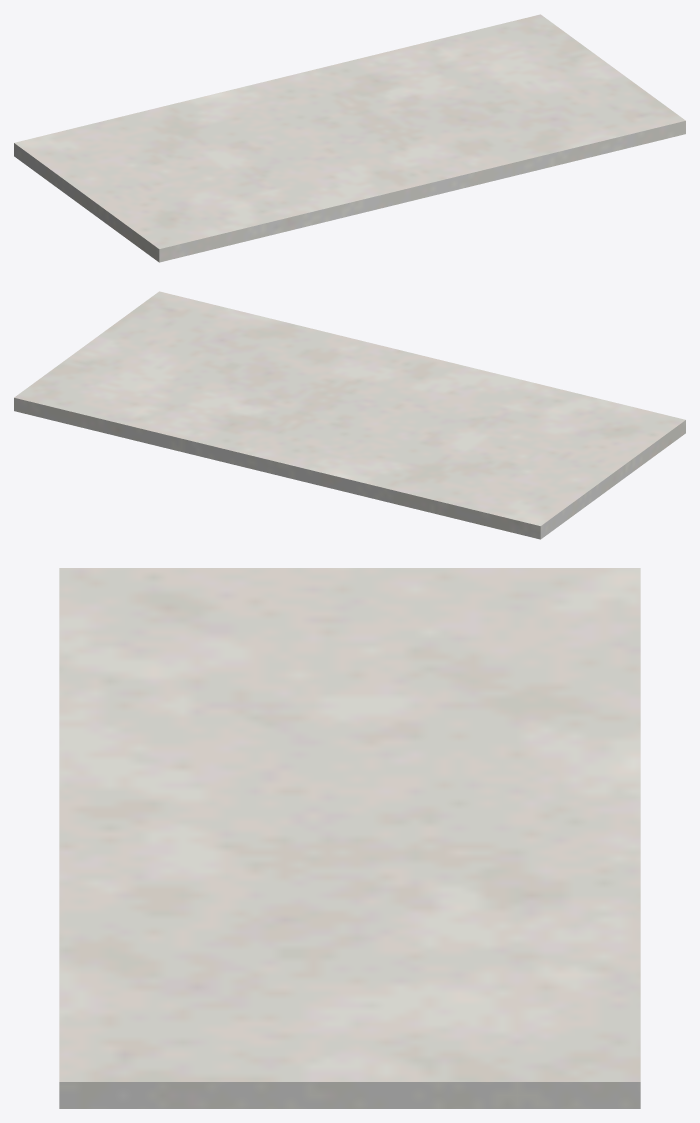
File: freezer_chest_lid.fbx
The picture shows the model from 3 angles, top to bottom: view 1: azimuth 30°, elevation 25°; view 2: azimuth 150°, elevation 25°; view 3: azimuth 270°, elevation 25°; orthographic projection. The views are drawn at different scales.
Parts seen in each view (by area): view 1: Freezer Chest Lid; view 2: Freezer Chest Lid; view 3: Freezer Chest Lid.
Boxes of the visible parts, <box> form: Freezer Chest Lid: <box>14,14,685,262</box>; Freezer Chest Lid: <box>14,291,685,539</box>; Freezer Chest Lid: <box>59,568,640,1108</box>.
Bounding box in the file's own units: 1.69 × 0.8068 × 0.0586.
1 material, 1 textured.
